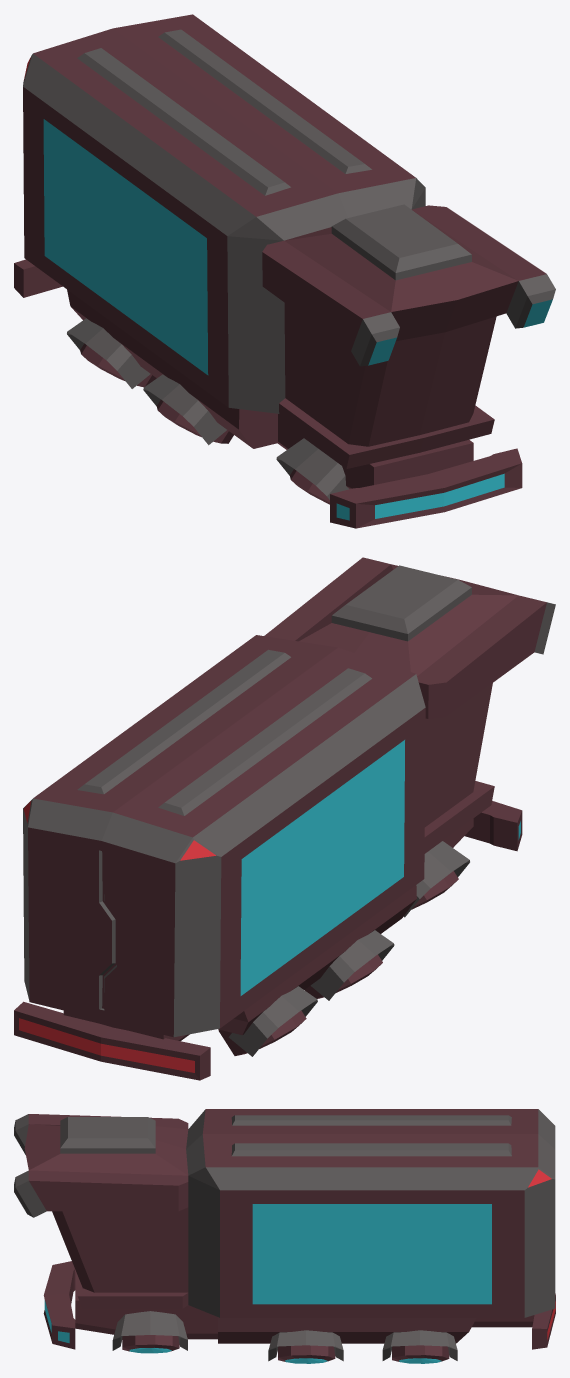
Rendered from scifi-truck.fbx.
The picture shows the model from 3 angles, top to bottom: view 1: azimuth 30°, elevation 25°; view 2: azimuth 150°, elevation 25°; view 3: azimuth 270°, elevation 25°; orthographic projection. The views are drawn at different scales.
Parts seen in each view (by area): view 1: scifi-truck; view 2: scifi-truck; view 3: scifi-truck.
Boxes of the visible parts, x1,y1,x2,y2 form: scifi-truck: (14, 14, 555, 528); scifi-truck: (14, 557, 555, 1080); scifi-truck: (14, 1109, 555, 1363).
Size of the model in its own units: 2.26 by 2.93 by 6.6.
